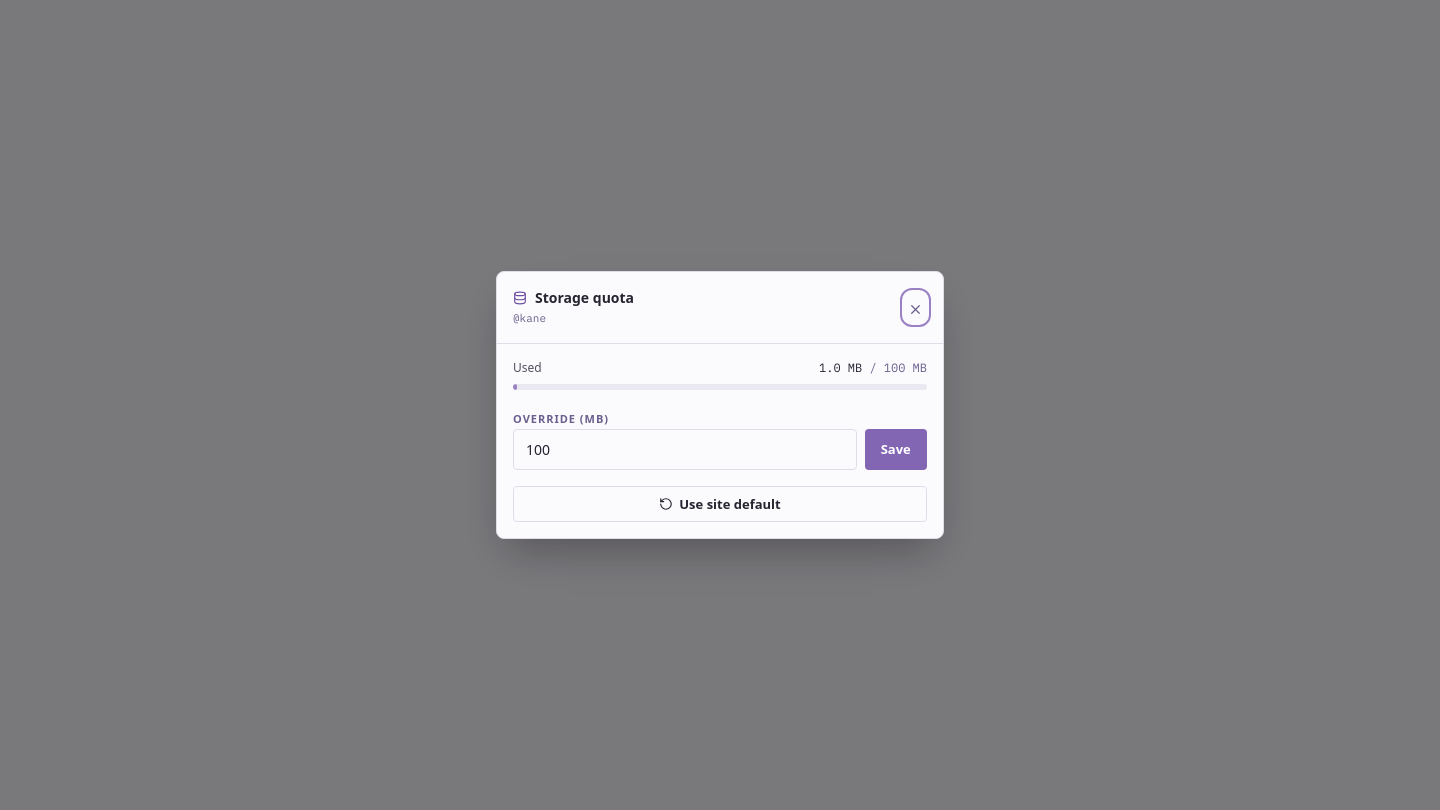
Test: QuotaModal › refuses a non-positive size
The image size is (1440, 810).
Replace the text in the number field labelled "Override (MB)" with "0" at (685, 450), box [513,429,856,470]
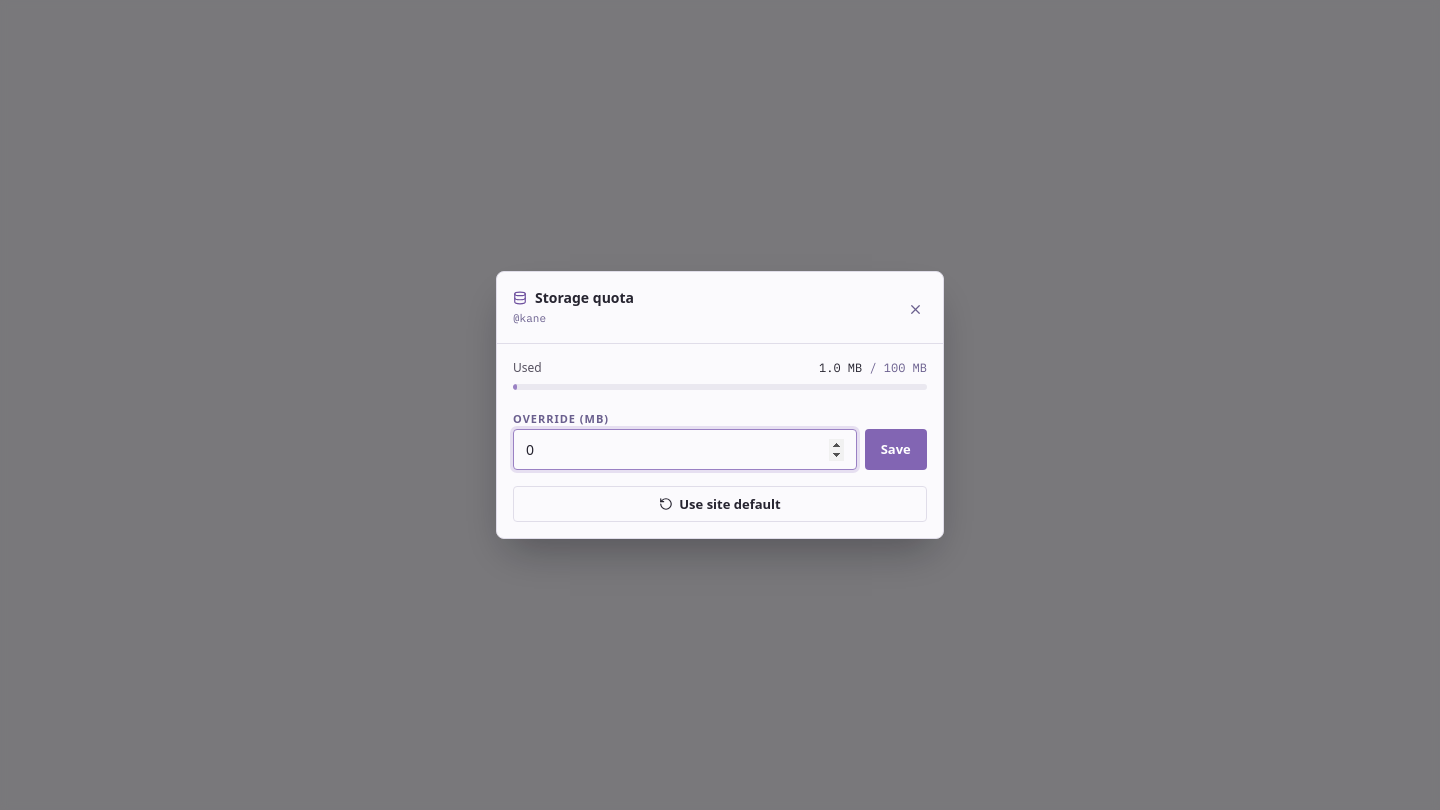
Click the button "Save" at (896, 450), box [864,429,927,470]
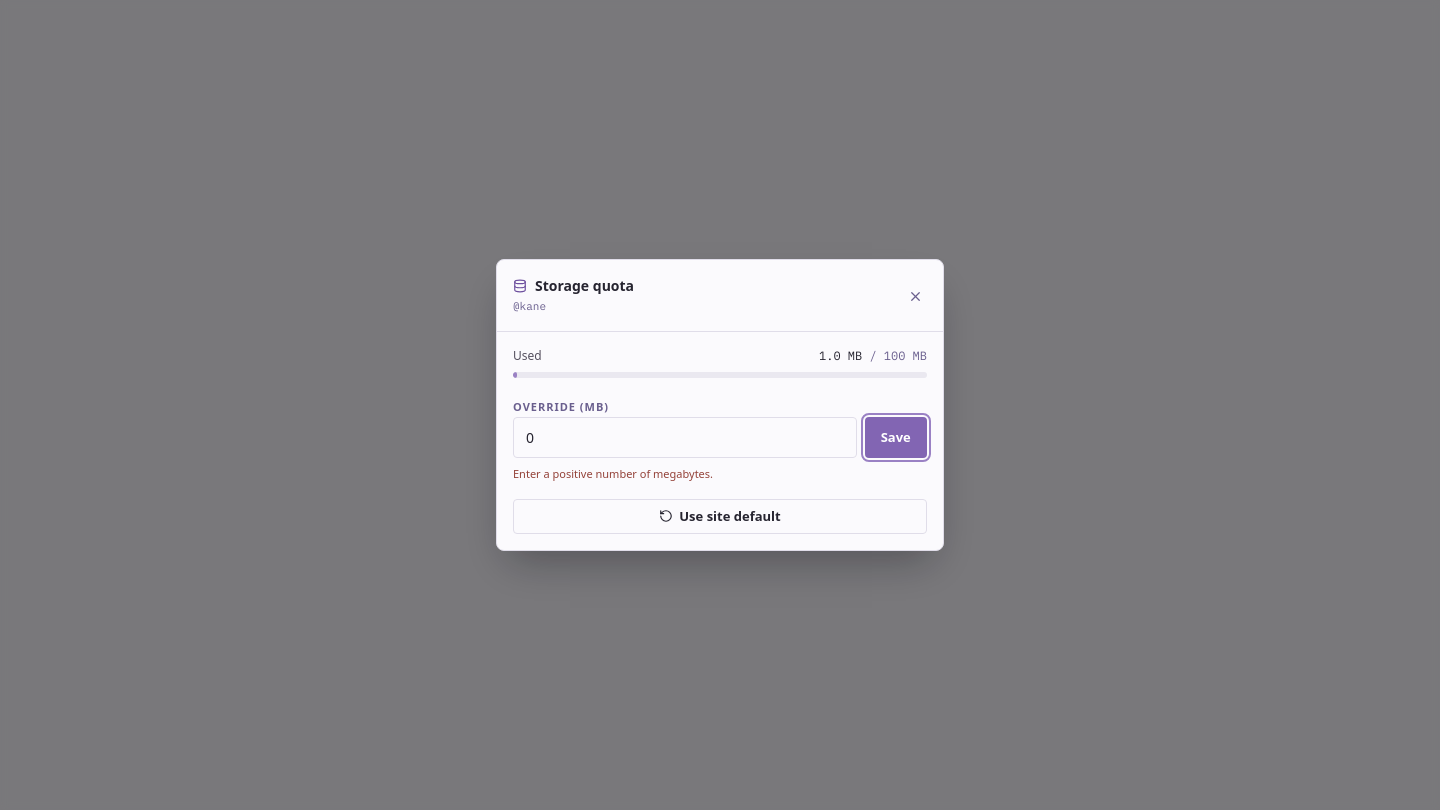
Check: the text "Enter a positive number of megabytes." is shown, box [513,466,713,481]
